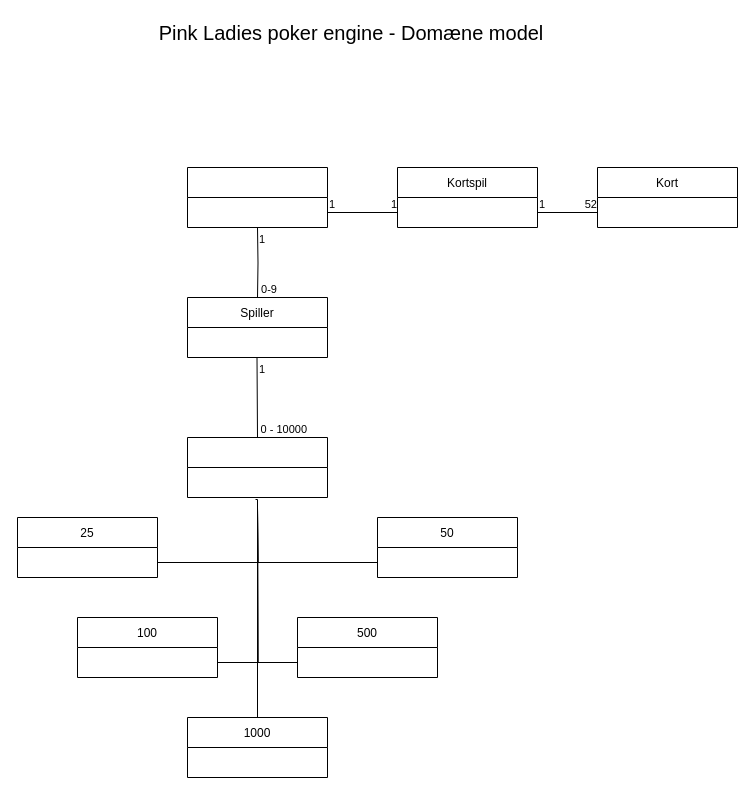
The diagram is 755 pixels wide and 795 high, and some of its shapes have lost their labels. The centre of each missing label's shape, as x and y in pixels:
"jetonner" goes at point 257,467.
"Pokerbord" goes at point 257,197.
